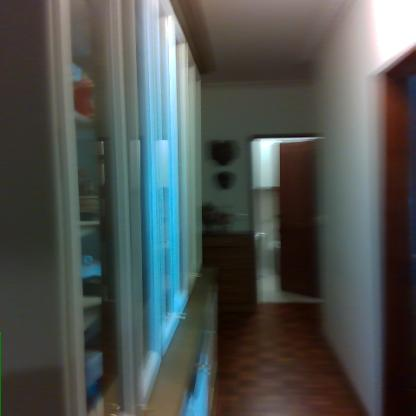semi: (233, 126, 345, 310)
